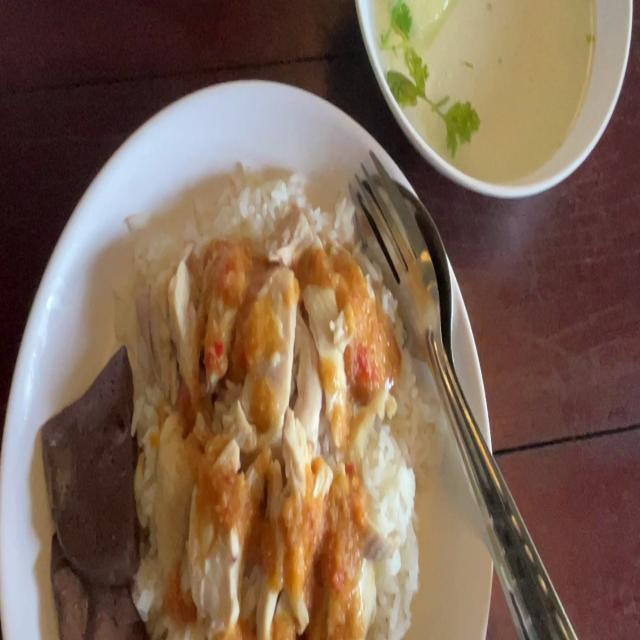boiled_chicken: (133, 261, 370, 619)
boiled_chicken_blood_jelly: (35, 350, 139, 574), (51, 505, 139, 640)
chicken_rice: (37, 176, 417, 640)
